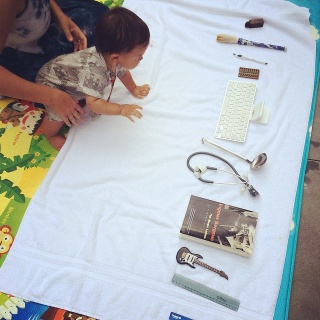without_mask: (118, 37, 150, 72)
